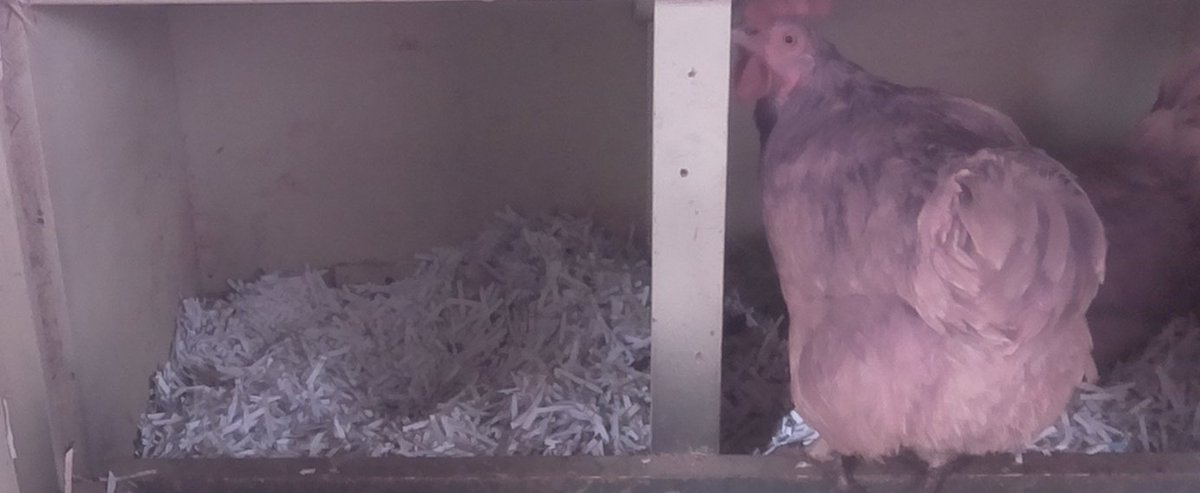hen: (731, 1, 1114, 476)
